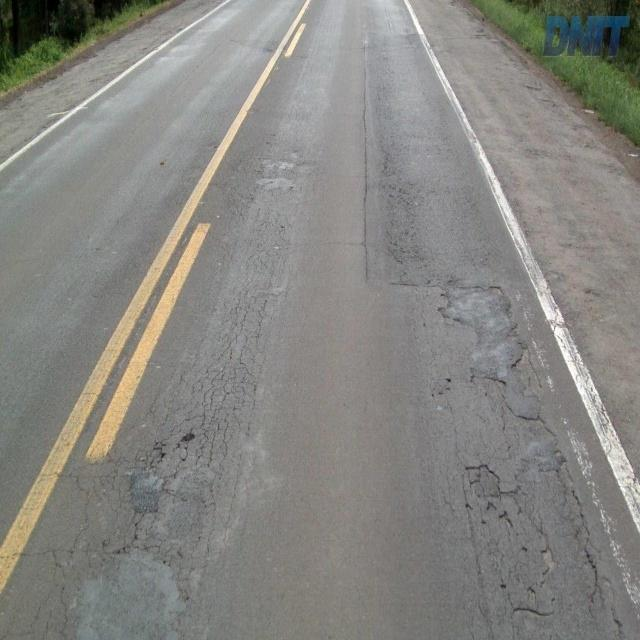pothole: (427, 270, 640, 640), (109, 388, 243, 565)
